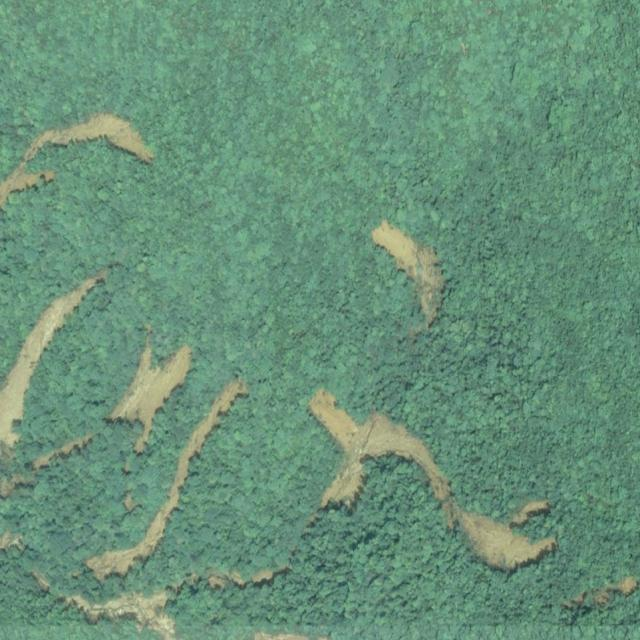landslide: (309, 390, 558, 573), (85, 381, 247, 582), (0, 269, 104, 457), (0, 113, 153, 208), (108, 339, 192, 454), (373, 221, 445, 326)
